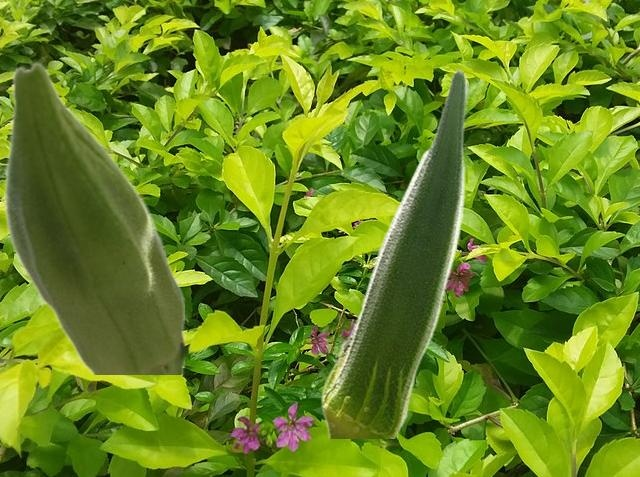okra: (3, 61, 183, 373), (320, 67, 467, 437)
